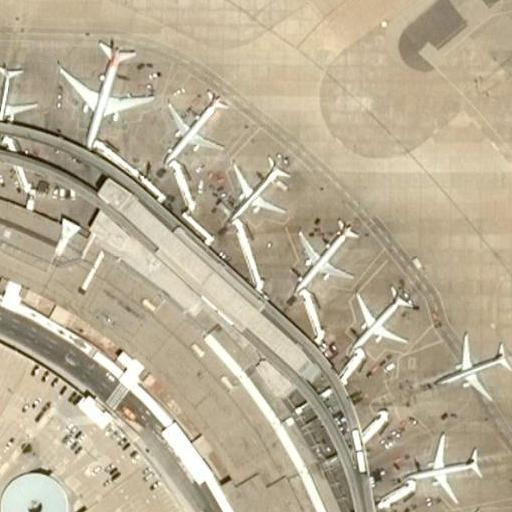Aircraft: (60, 39, 153, 139), (157, 80, 228, 165), (427, 326, 512, 396), (291, 219, 365, 294), (401, 435, 489, 497), (220, 153, 295, 223), (344, 284, 419, 353), (0, 55, 36, 136), (430, 511, 512, 512)
